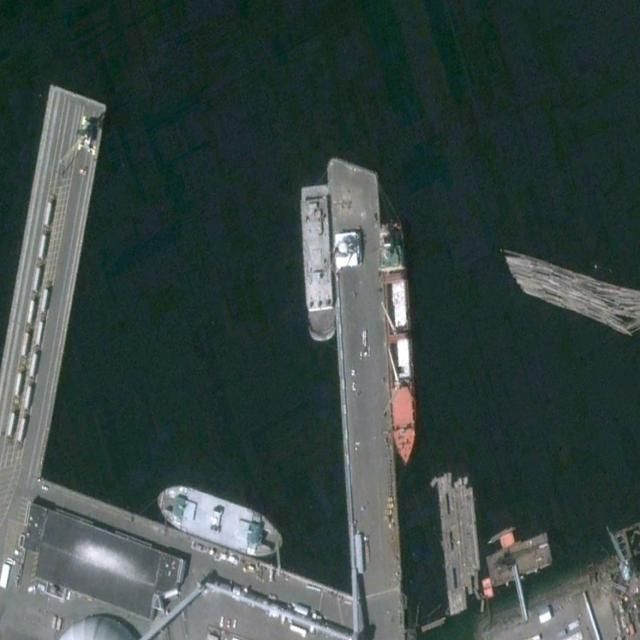Cargo: (377, 219, 420, 463)
Other Ship: (299, 184, 338, 344)
RoRo: (153, 476, 287, 565)
